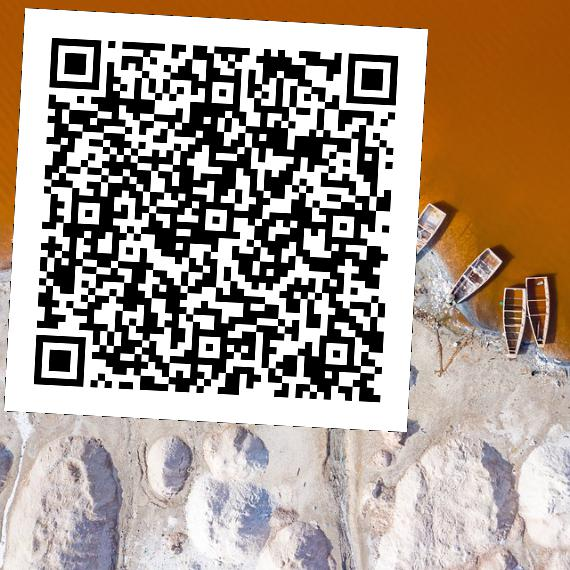qr_code: (4, 8, 427, 431)
